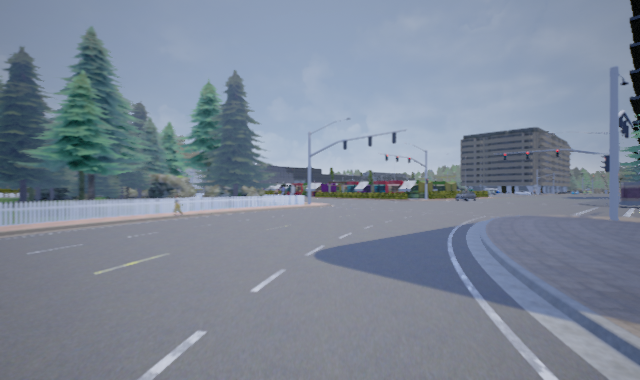pedestrian: (171, 194, 182, 216)
vehicle: (455, 189, 477, 202)
